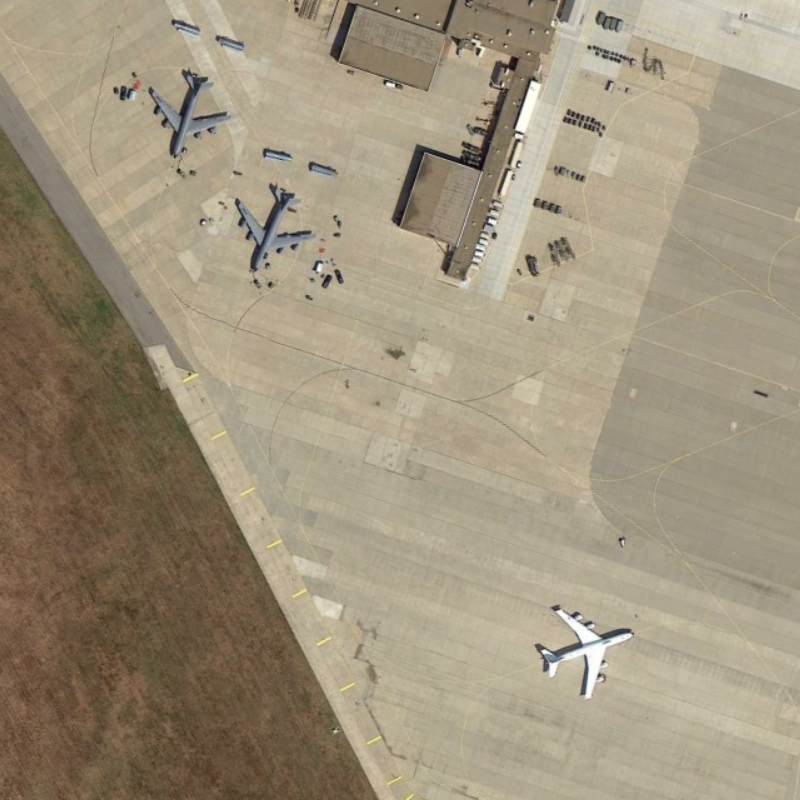A11: (530, 601, 637, 705)
A14: (143, 60, 240, 167), (223, 175, 318, 276)
